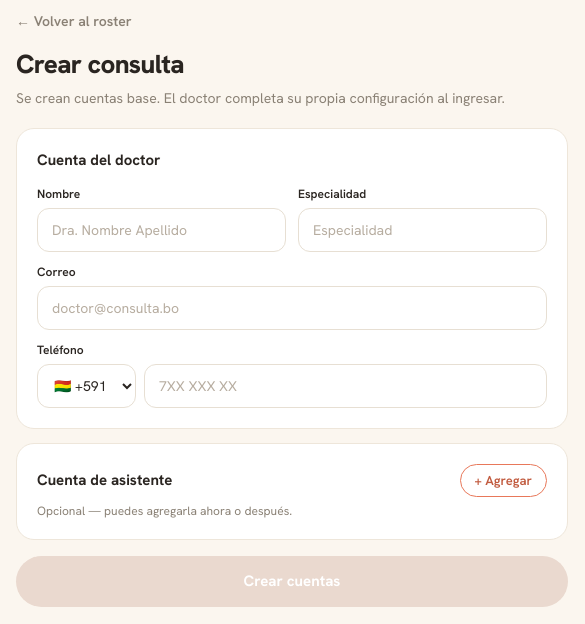
Test: CreatePracticeForm › disables the submit button until the doctor fields are complete
expect the button "Crear cuentas" is disabled: met, box top-left (16, 556), bottom-right (568, 606)
Type "Dra. Carla Mendoza" into the field labelled "Nombre".
click(162, 230); type("Dra. Carla Mendoza")  # box top-left (37, 208), bottom-right (286, 252)
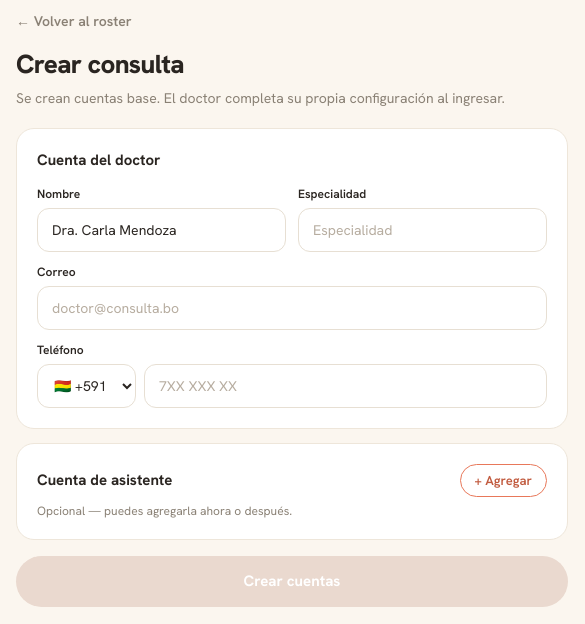
Type "Cardiología" into the field labelled "Especialidad".
click(422, 230); type("Cardiología")  # box top-left (298, 208), bottom-right (547, 252)
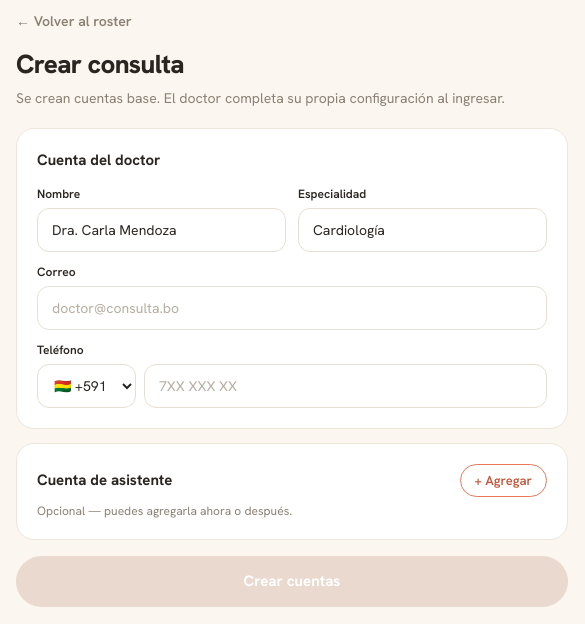
Type "carla@consulta.bo" into the field labelled "Correo".
click(292, 308); type("carla@consulta.bo")  # box top-left (37, 286), bottom-right (547, 330)
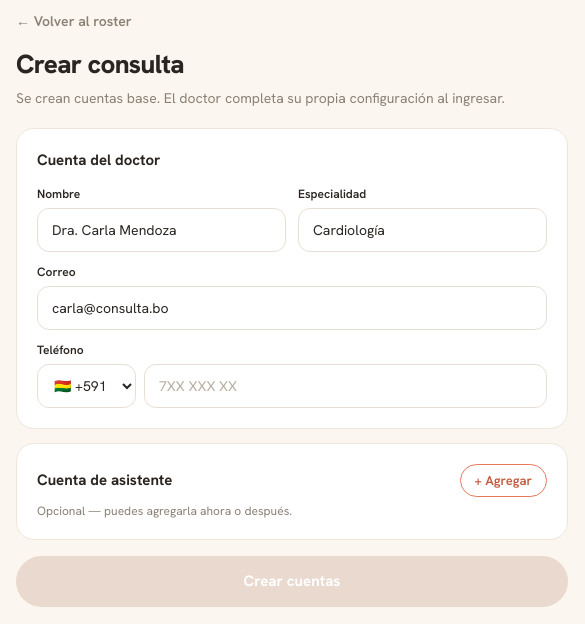
Type "71234567" into the field labelled "Teléfono".
click(346, 386); type("71234567")  # box top-left (144, 364), bottom-right (547, 408)
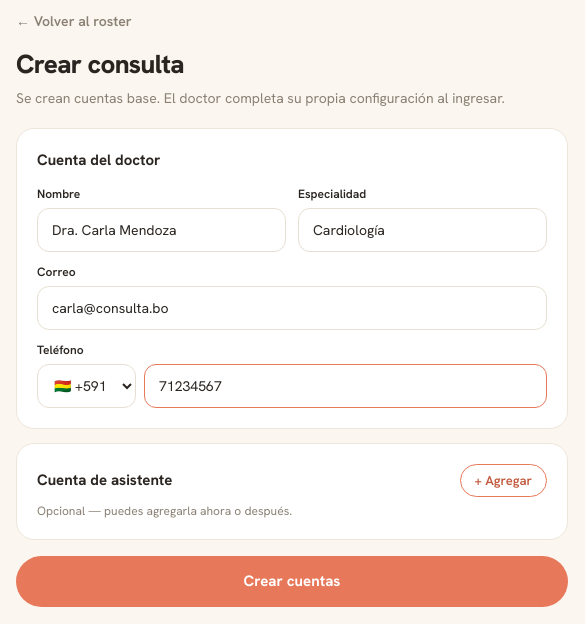
expect the button "Crear cuentas" is enabled: met, box top-left (16, 556), bottom-right (568, 606)
